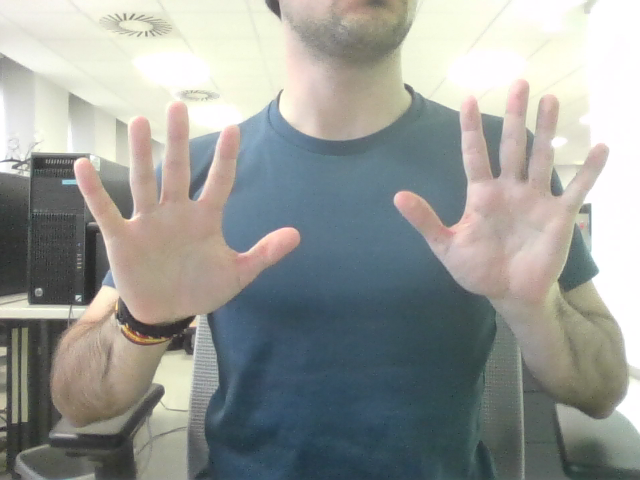Manos Arriba: (108, 100, 575, 287)
